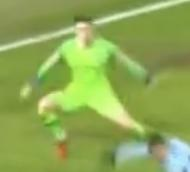goalkeeper: (13, 8, 161, 163)
